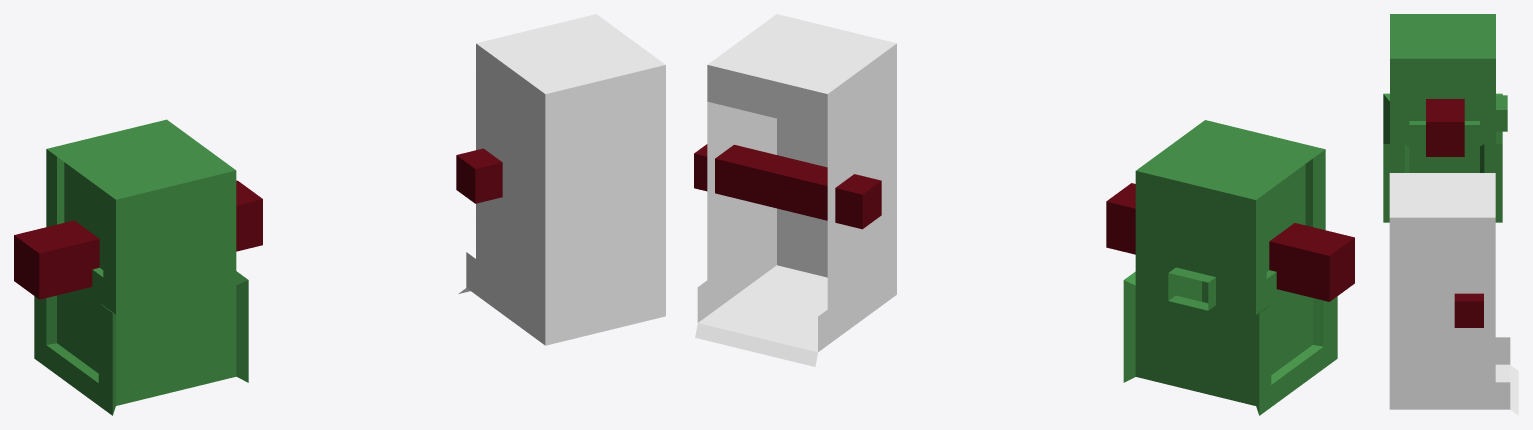
File: gloveboxglb.glb
3 renders of one model, left to right at view 1: azimuth 30°, elevation 25°; view 2: azimuth 150°, elevation 25°; view 3: azimuth 270°, elevation 25°, orthographic. The views are drawn at different scales.
Visible parts, largest first — view 1: Cube, Cube.002, Cube.003, Cube.001; view 2: Cube, Cube.002, Cube.001, Cube.003; view 3: Cube, Cube.002, Cube.003, Cube.001.
Boxes of the visible parts, left/top/right/bottom form: Cube: left=458, top=14, right=665, bottom=345; Cube.002: left=34, top=119, right=248, bottom=415; Cube.003: left=14, top=180, right=262, bottom=299; Cube.001: left=456, top=148, right=502, bottom=203; Cube: left=695, top=14, right=896, bottom=366; Cube.002: left=1123, top=120, right=1337, bottom=415; Cube.001: left=694, top=144, right=881, bottom=229; Cube.003: left=1106, top=183, right=1354, bottom=301; Cube: left=1389, top=173, right=1518, bottom=415; Cube.002: left=1383, top=14, right=1507, bottom=222; Cube.003: left=1426, top=99, right=1464, bottom=156; Cube.001: left=1454, top=293, right=1483, bottom=327.
Size of the model in its own units: 10.36 by 4.15 by 2.56.
